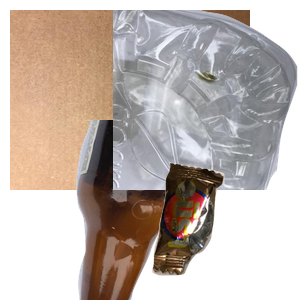cardboard: (10, 10, 250, 190)
glass: (60, 120, 300, 300)
plastic: (113, 10, 300, 190)
trash: (150, 160, 300, 300)
